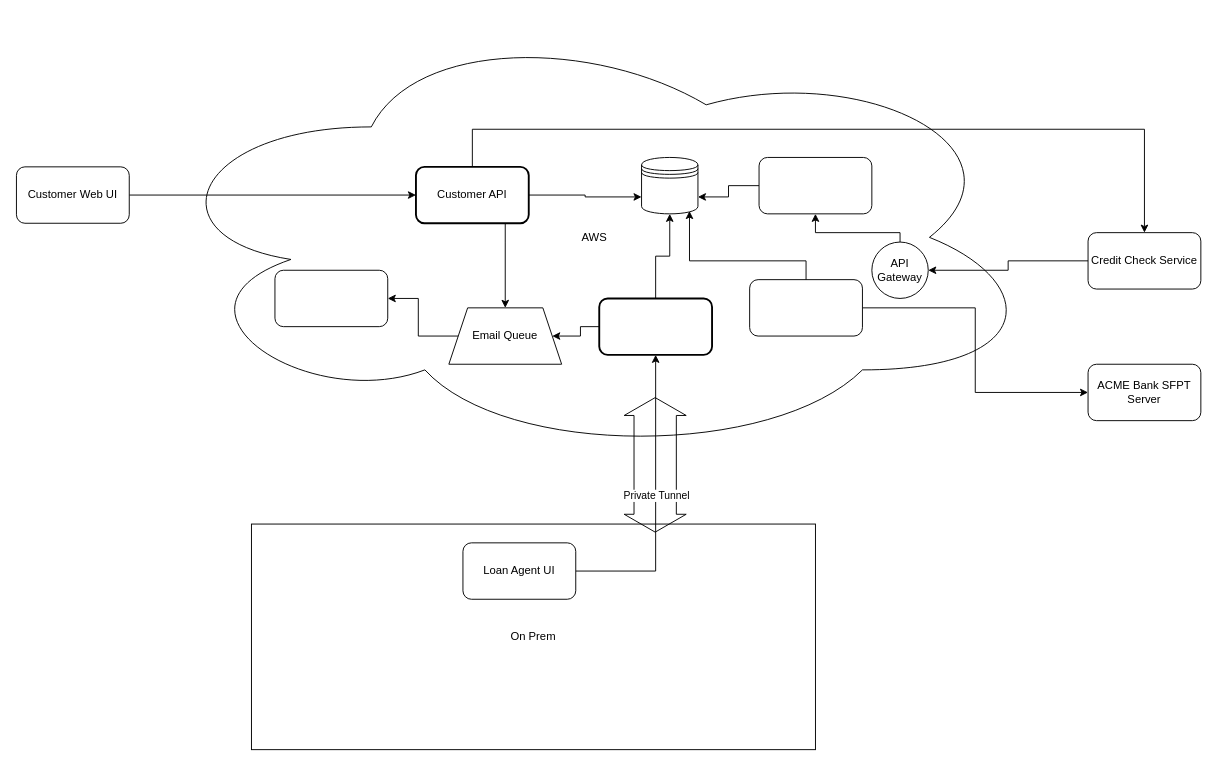
The diagram is 1217 pixels wide and 766 high, and some of its shapes have lost their labels. The shapes that lost their labels are listed below. From the top down, each one's box as (x1, y1, x2, y2) in pixels, then its label:
(758, 157, 872, 214): Credit Check Response Lambda
(274, 269, 388, 327): Email Queue Handler
(749, 279, 862, 336): Bank File Exporter
(598, 297, 713, 355): Loan Agent API
